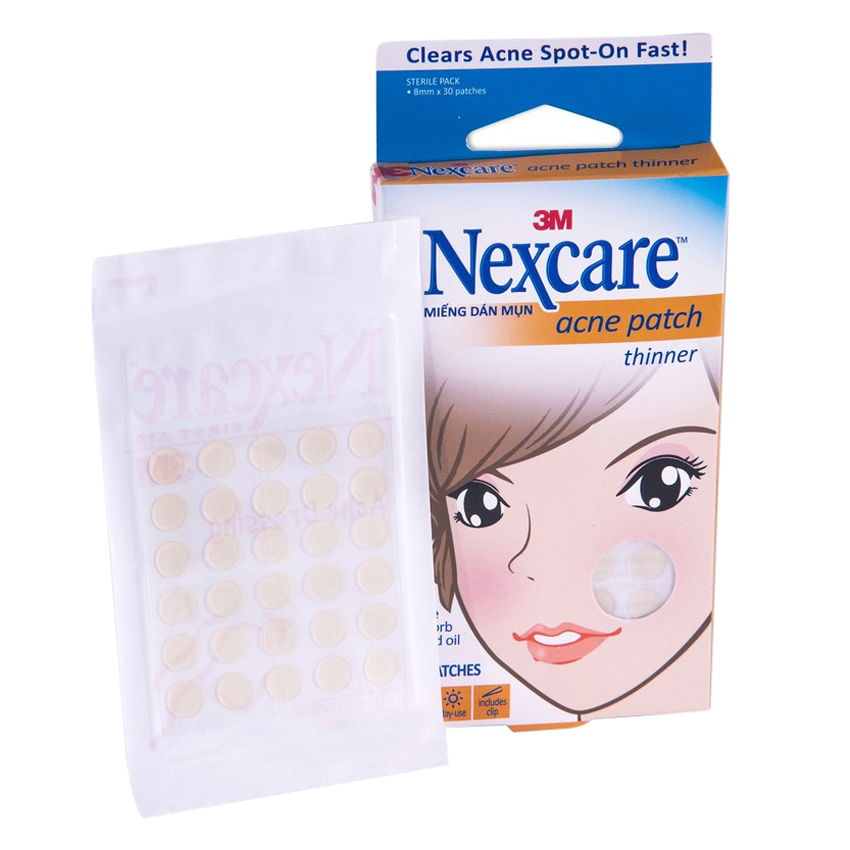3M: (530, 204, 577, 233)
